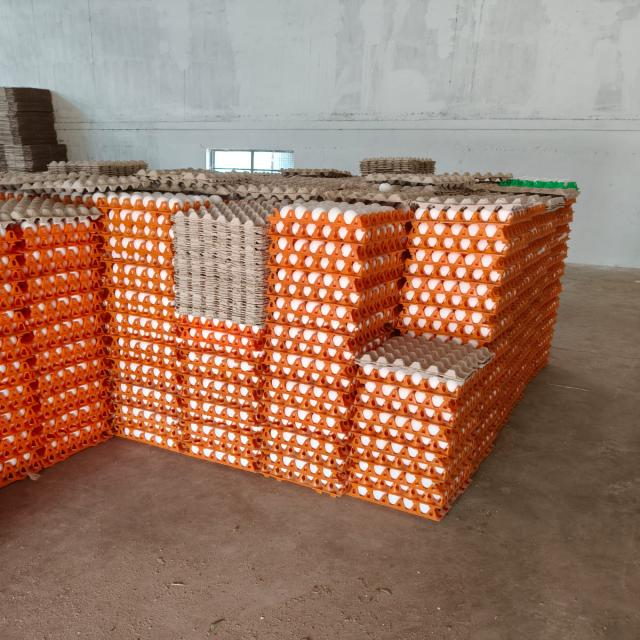egg_tray: (349, 300, 556, 519), (263, 202, 410, 494), (94, 193, 203, 449), (349, 336, 499, 519), (399, 198, 570, 343), (21, 217, 110, 465), (262, 324, 386, 494), (268, 202, 410, 334), (357, 334, 500, 460), (347, 408, 507, 520), (399, 240, 565, 343), (262, 330, 361, 494), (410, 196, 570, 284), (263, 323, 389, 434), (262, 325, 389, 435), (474, 299, 556, 468), (410, 198, 570, 284), (263, 324, 389, 430), (265, 324, 351, 479), (178, 314, 263, 470), (262, 350, 353, 494), (401, 264, 559, 344), (173, 202, 272, 325), (407, 204, 553, 287), (263, 323, 390, 414), (0, 170, 362, 201), (267, 251, 402, 334), (103, 194, 191, 321), (21, 217, 103, 352), (347, 436, 476, 520), (0, 223, 41, 486), (487, 263, 563, 404), (22, 218, 103, 350), (270, 202, 412, 276), (22, 218, 103, 347), (270, 203, 410, 276), (346, 444, 478, 521), (483, 298, 557, 433), (109, 310, 179, 449), (178, 314, 263, 427), (109, 312, 179, 448), (463, 349, 537, 477), (35, 340, 110, 465), (402, 259, 546, 324), (485, 239, 566, 354), (94, 192, 207, 271), (417, 195, 562, 253), (265, 324, 388, 392), (269, 201, 412, 259), (261, 404, 350, 494), (358, 336, 491, 396), (39, 358, 113, 465), (105, 252, 174, 366), (35, 343, 110, 443), (104, 236, 174, 343), (490, 292, 558, 401), (479, 255, 561, 345), (268, 278, 399, 334), (265, 323, 388, 381), (261, 416, 351, 495), (261, 426, 349, 496), (104, 209, 173, 297), (180, 354, 261, 428), (140, 169, 332, 200), (268, 262, 403, 306), (499, 308, 555, 413), (503, 301, 557, 409), (268, 265, 403, 308), (108, 312, 178, 393), (268, 291, 399, 334), (23, 205, 101, 277), (110, 336, 179, 416), (105, 223, 173, 304), (263, 376, 354, 436), (176, 265, 266, 325), (105, 252, 174, 329), (173, 201, 273, 254), (0, 358, 41, 486), (266, 403, 352, 464), (105, 251, 174, 326), (176, 269, 266, 325), (409, 245, 530, 286), (41, 399, 113, 466), (272, 234, 405, 270), (179, 270, 266, 325), (512, 298, 558, 402), (81, 190, 217, 225), (487, 292, 558, 359), (91, 192, 215, 228), (265, 318, 391, 353), (114, 383, 179, 450), (0, 221, 30, 362), (177, 279, 266, 326), (265, 393, 352, 441), (179, 422, 262, 472), (110, 313, 179, 373), (212, 177, 361, 204), (106, 263, 174, 321), (41, 378, 109, 434), (0, 172, 151, 196), (25, 234, 101, 280), (26, 268, 103, 313), (362, 171, 512, 194), (268, 180, 380, 210), (364, 172, 475, 201), (0, 87, 55, 145), (247, 174, 362, 201), (0, 222, 27, 336), (138, 168, 255, 194), (107, 312, 176, 356), (0, 360, 38, 437), (476, 175, 579, 203), (114, 382, 178, 427), (0, 194, 99, 222), (104, 258, 174, 297), (39, 358, 109, 397), (265, 179, 349, 210), (105, 238, 172, 276), (0, 426, 42, 486), (105, 236, 173, 273), (323, 183, 432, 206), (14, 190, 100, 219), (0, 429, 42, 486), (43, 172, 151, 193), (104, 208, 170, 241), (0, 191, 66, 223), (501, 174, 579, 199), (114, 332, 173, 364), (138, 169, 211, 193), (0, 189, 35, 237), (47, 160, 148, 176), (550, 201, 572, 264), (360, 157, 435, 175), (0, 278, 27, 324), (49, 190, 103, 211), (553, 203, 572, 257), (106, 270, 151, 292), (547, 240, 567, 286), (0, 184, 36, 206), (286, 396, 327, 410), (281, 168, 351, 176), (0, 187, 35, 202), (64, 354, 100, 368), (0, 254, 21, 278), (0, 187, 25, 207), (558, 195, 575, 223), (296, 330, 321, 348), (376, 256, 401, 271), (323, 403, 346, 417), (421, 334, 460, 342), (265, 440, 286, 453), (363, 337, 383, 350), (108, 210, 151, 216), (41, 364, 62, 375), (545, 247, 563, 259), (0, 146, 7, 172), (469, 203, 483, 216), (156, 287, 172, 298), (300, 374, 319, 382), (358, 461, 370, 470), (325, 470, 334, 482), (143, 318, 159, 324), (97, 193, 105, 204), (337, 349, 345, 359), (143, 368, 156, 374), (158, 213, 169, 220), (333, 336, 344, 343), (288, 451, 300, 457), (113, 294, 122, 302), (313, 465, 321, 474), (386, 269, 396, 276), (268, 338, 279, 344), (85, 320, 91, 330), (312, 267, 319, 274), (274, 387, 281, 394), (494, 208, 502, 214), (285, 372, 294, 377), (321, 345, 332, 349), (471, 204, 478, 210), (489, 382, 495, 389), (308, 248, 315, 254), (276, 412, 284, 417), (266, 396, 274, 400), (291, 272, 297, 277), (428, 192, 434, 197), (351, 185, 356, 191), (384, 286, 394, 289), (165, 388, 174, 391), (261, 274, 264, 283), (334, 403, 339, 408), (329, 464, 335, 468), (157, 269, 163, 273), (481, 222, 489, 225), (294, 272, 302, 275), (492, 205, 499, 208), (457, 272, 462, 276), (307, 273, 312, 277), (125, 276, 130, 280), (554, 272, 558, 277), (383, 200, 388, 204), (284, 272, 288, 277), (308, 273, 313, 277), (462, 208, 467, 212), (557, 286, 561, 291), (18, 267, 21, 273), (325, 372, 334, 374), (268, 337, 271, 343), (16, 314, 20, 318), (141, 286, 145, 290), (372, 341, 377, 344), (115, 228, 120, 231), (353, 267, 356, 272), (0, 171, 2, 178), (297, 178, 304, 180), (33, 184, 36, 188), (443, 273, 449, 275), (314, 414, 320, 416), (151, 428, 155, 431), (15, 326, 19, 329), (82, 223, 85, 227), (340, 460, 343, 464), (421, 336, 425, 339), (226, 191, 229, 195), (3, 250, 6, 254), (358, 453, 362, 456), (42, 194, 46, 197), (299, 414, 303, 417), (307, 478, 311, 481), (379, 287, 383, 290), (425, 273, 431, 275), (474, 211, 478, 214), (324, 186, 327, 190), (15, 246, 17, 251), (170, 292, 172, 297), (80, 323, 83, 326), (52, 459, 55, 462), (127, 285, 130, 288), (553, 203, 556, 206), (114, 218, 117, 221), (481, 452, 484, 455), (462, 209, 466, 211), (289, 328, 293, 330), (215, 198, 219, 200), (301, 318, 305, 320), (315, 272, 319, 274), (291, 264, 295, 266), (528, 198, 535, 199), (551, 199, 557, 200), (449, 198, 455, 199), (126, 238, 132, 239), (0, 197, 2, 200), (94, 212, 97, 214), (423, 197, 426, 199), (441, 466, 444, 468), (404, 460, 406, 463), (395, 451, 398, 453), (562, 232, 564, 235), (276, 338, 279, 340), (289, 328, 292, 330), (132, 286, 134, 289), (293, 403, 295, 406), (303, 412, 309, 413), (304, 438, 307, 440), (293, 275, 296, 277), (480, 210, 483, 212), (426, 273, 431, 274), (307, 407, 312, 408), (16, 147, 20, 148), (160, 430, 162, 432), (66, 223, 70, 224), (213, 256, 215, 258), (272, 371, 274, 373), (326, 353, 328, 355), (469, 426, 471, 428), (3, 449, 5, 451), (358, 182, 360, 184), (52, 354, 54, 356), (299, 178, 303, 179), (483, 452, 484, 456), (478, 461, 480, 463), (469, 342, 472, 343), (421, 195, 424, 196), (397, 445, 398, 448), (458, 205, 461, 206), (155, 328, 156, 331), (161, 277, 162, 280), (3, 346, 4, 349), (15, 320, 18, 321), (71, 240, 74, 241), (327, 413, 330, 414), (150, 332, 153, 333), (331, 443, 334, 444), (504, 214, 506, 215), (513, 205, 515, 206), (351, 384, 352, 386), (344, 380, 346, 381), (409, 498, 411, 499), (19, 331, 21, 332), (76, 323, 78, 324), (342, 456, 343, 458), (227, 190, 229, 191), (331, 403, 333, 404), (270, 327, 272, 328), (28, 265, 29, 267), (314, 180, 315, 182), (321, 180, 322, 182), (140, 318, 142, 319), (301, 478, 303, 479), (275, 252, 277, 253), (318, 245, 320, 246), (504, 205, 506, 206), (498, 198, 500, 199), (560, 273, 561, 274), (0, 160, 1, 161), (487, 388, 488, 389), (378, 460, 379, 461), (434, 205, 435, 206), (18, 316, 19, 317), (340, 356, 341, 357), (340, 336, 341, 337), (556, 291, 556, 292), (333, 274, 335, 274), (292, 270, 292, 271), (525, 382, 525, 383), (504, 192, 506, 192), (523, 337, 523, 338), (170, 327, 170, 332), (143, 381, 143, 381), (349, 412, 350, 412), (291, 341, 293, 341), (286, 341, 288, 341), (468, 216, 468, 216), (548, 203, 549, 203), (286, 189, 286, 190), (43, 363, 43, 364), (285, 403, 291, 403), (480, 460, 480, 461), (266, 196, 269, 196), (287, 478, 291, 478), (290, 474, 290, 474), (299, 443, 299, 444), (301, 194, 302, 194)
